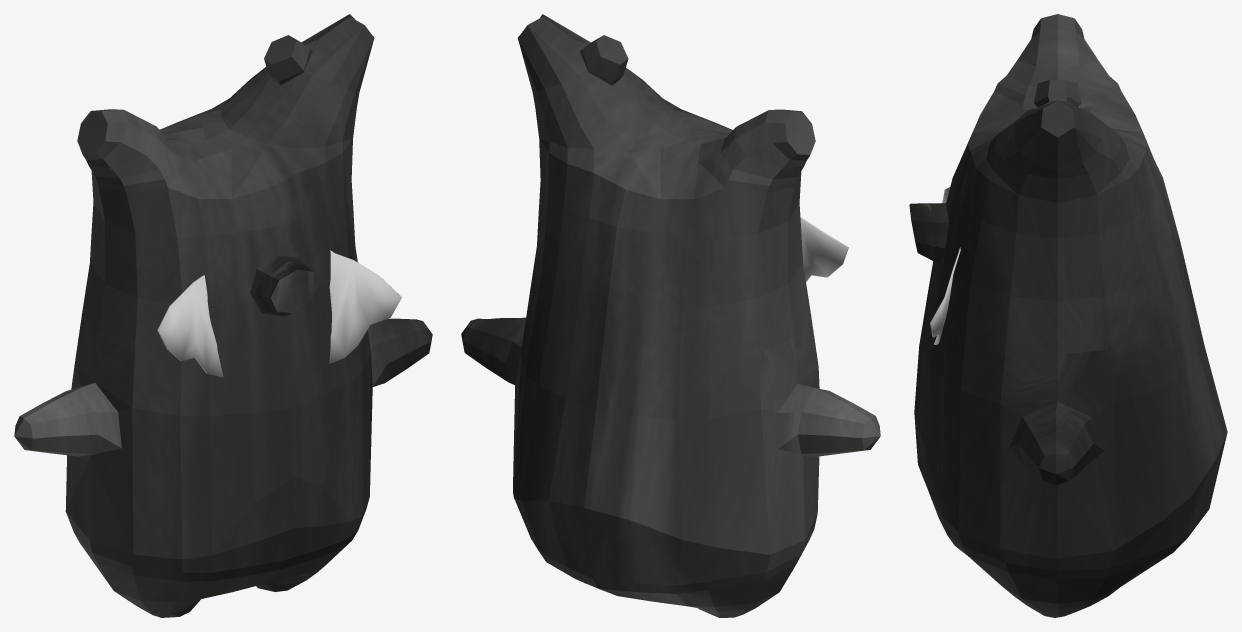
Rendered from frame_0022.obj.
3 views of the same model, side by side, from view 1: azimuth 30°, elevation 25°; view 2: azimuth 150°, elevation 25°; view 3: azimuth 270°, elevation 25° (orthographic).
Visible parts, largest first — view 1: korok, leaf, nose; view 2: korok, leaf; view 3: korok, nose, leaf.
Boxes of the visible parts, x1,y1,x2,y2 form: korok: [14, 14, 432, 617]; leaf: [157, 250, 401, 377]; nose: [250, 255, 318, 316]; korok: [461, 14, 880, 617]; leaf: [800, 217, 848, 281]; korok: [914, 14, 1227, 617]; nose: [909, 203, 948, 263]; leaf: [930, 187, 960, 344].
Bounding box in the file's own units: 1.79 × 2.26 × 1.19.
